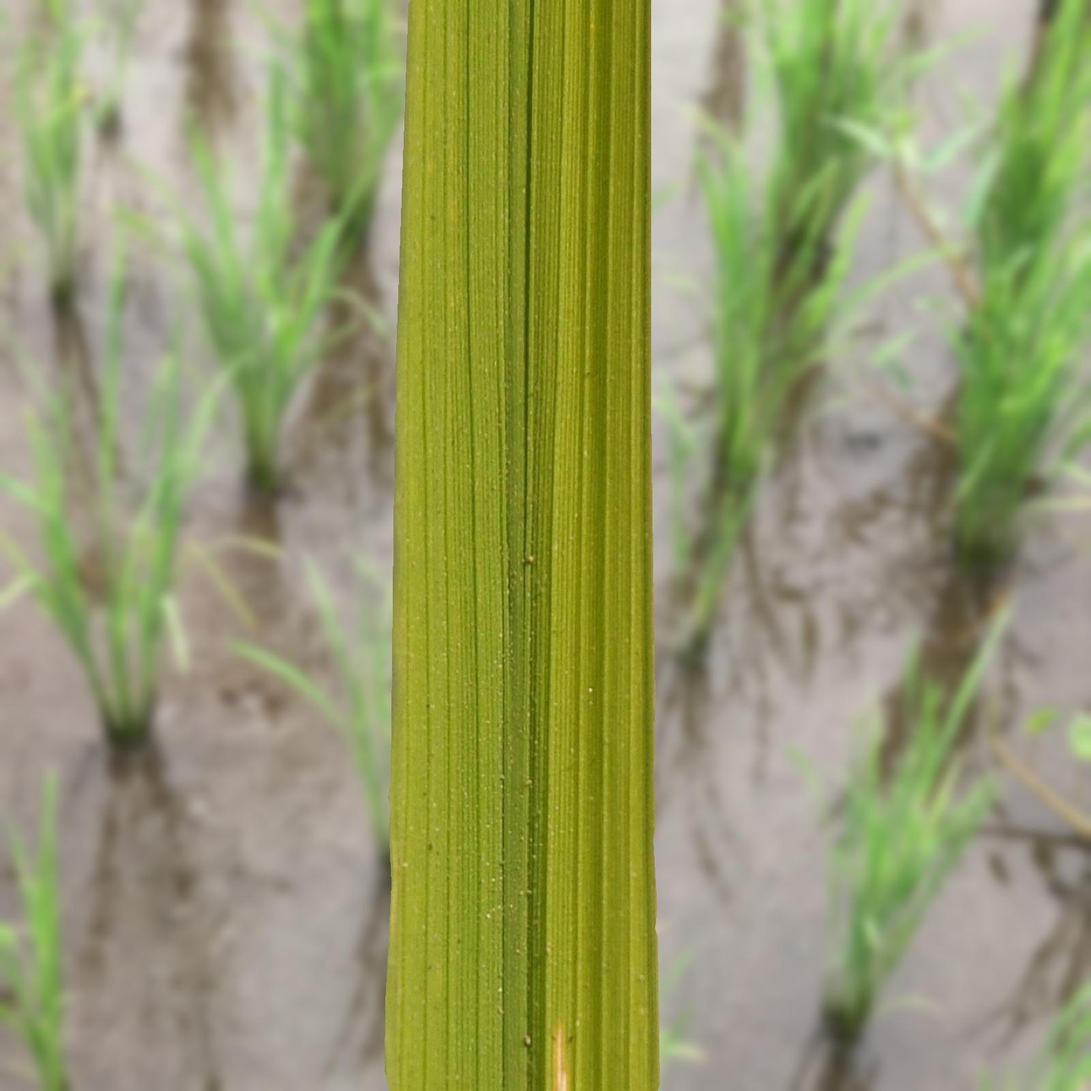BLS: (554, 1025, 568, 1090)
LEAF: (385, 0, 659, 1090)
